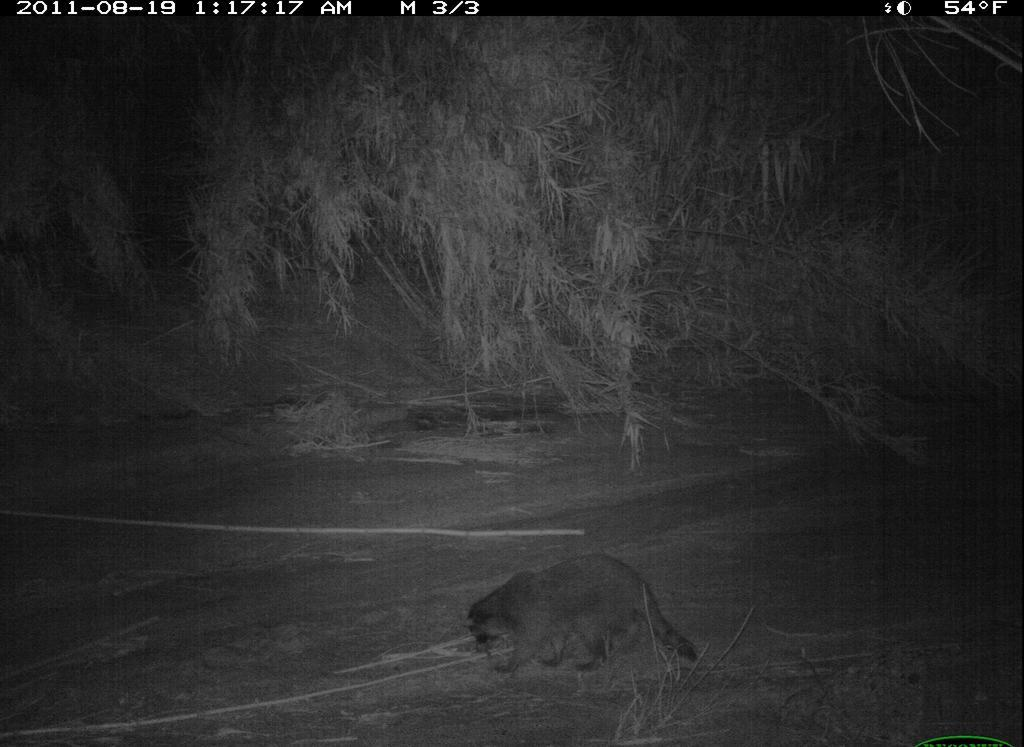raccoon: (461, 550, 703, 679)
